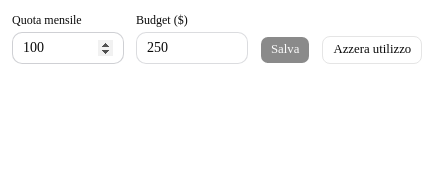
Test case: AdminQuotaForm › azzera l utilizzo e mostra feedback positivo
Click the button "Azzera utilizzo": (372, 50) left=322, top=36, right=422, bottom=64
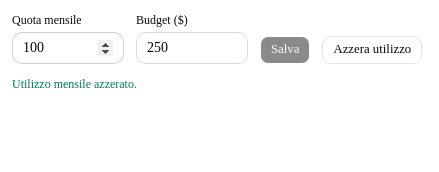
Check: the text "Utilizzo mensile azzerato." is shown, box left=12, top=77, right=137, bottom=91
